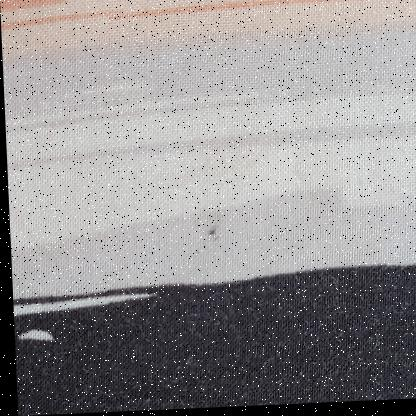spot: (203, 230, 222, 244)
